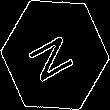N_NE: (27, 26, 83, 84)
